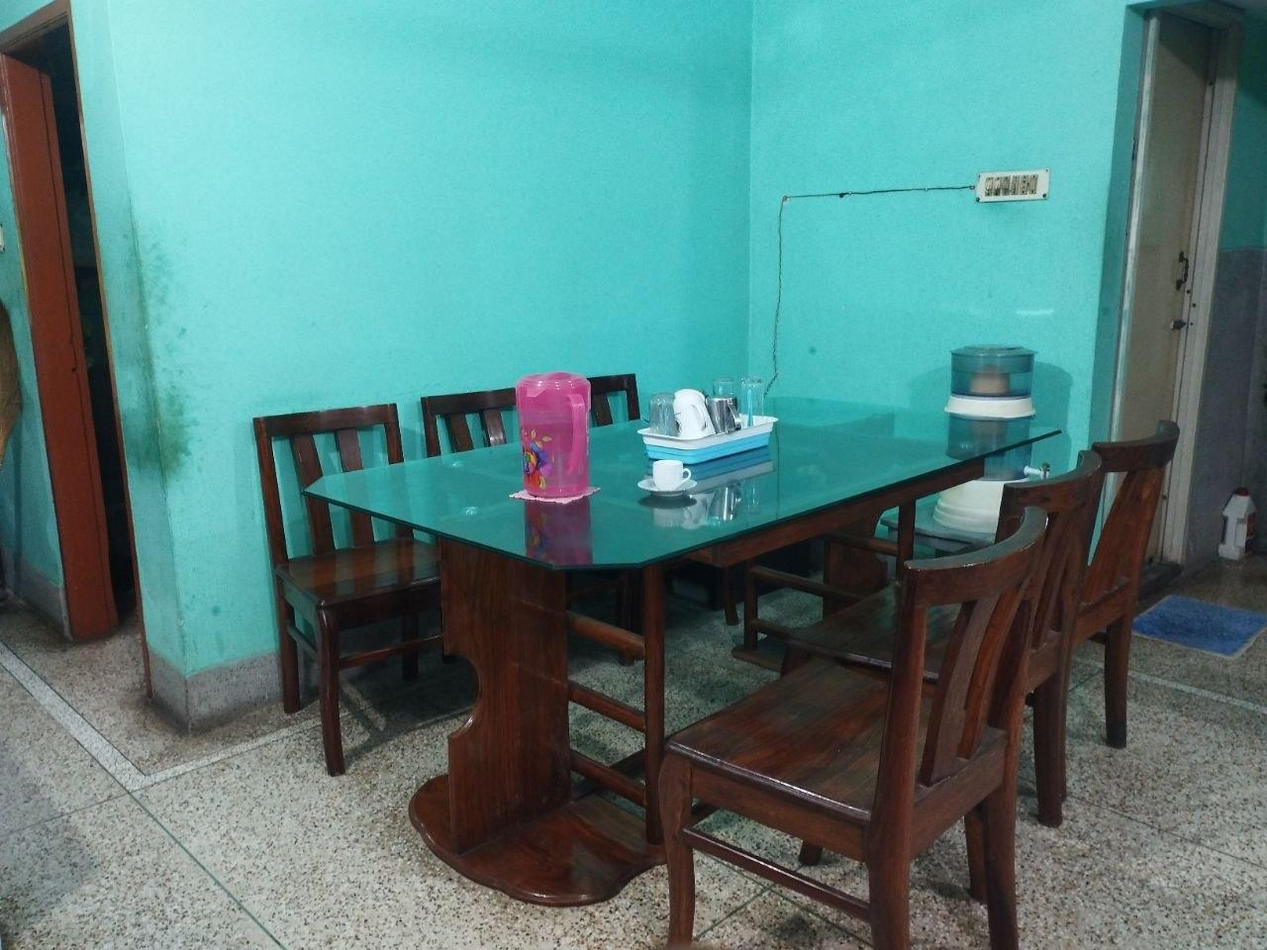Chair: (640, 472, 1049, 950), (773, 422, 1118, 833), (230, 387, 462, 801), (1059, 385, 1182, 775), (410, 371, 543, 462), (559, 351, 662, 426)
Cup: (625, 456, 712, 507)
Door: (1124, 0, 1243, 577)
Floor Mat: (1138, 551, 1265, 684)
Glass: (686, 365, 789, 430)
Jug: (504, 345, 609, 522)
Table: (301, 407, 1071, 916)
